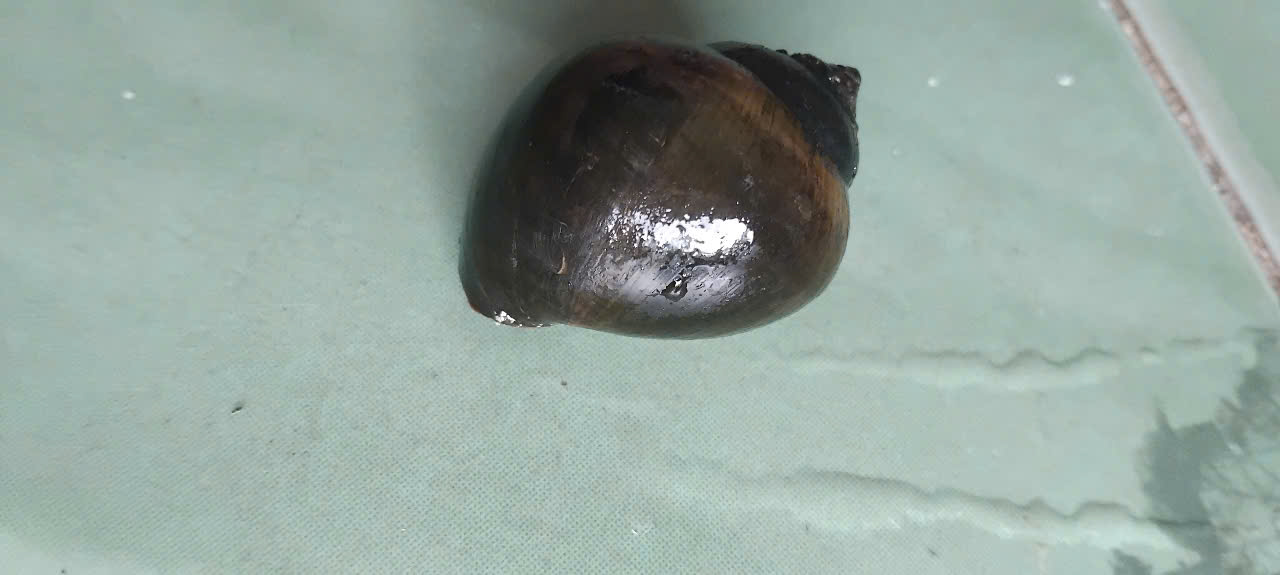oc_buou_den: (440, 3, 906, 364)
